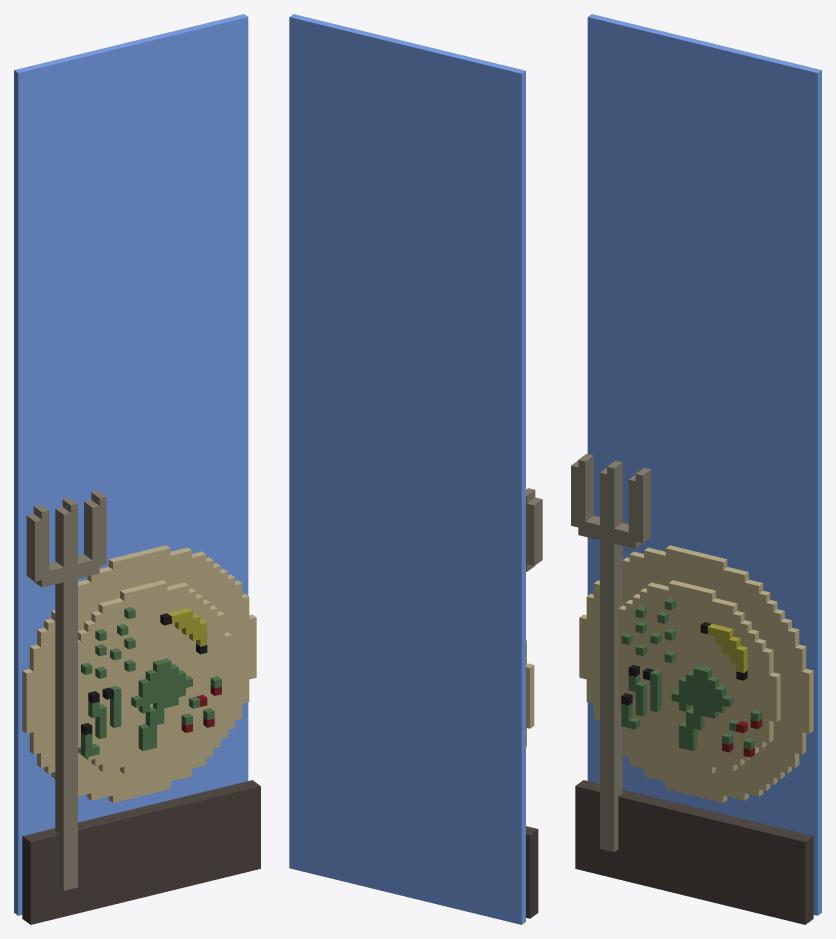
File: scene_veggie_on_plate.glb
3 views of the same model, side by side, from view 1: azimuth 30°, elevation 25°; view 2: azimuth 150°, elevation 25°; view 3: azimuth 330°, elevation 25° (orthographic).
Visible parts, largest first — view 1: scene_veggie_plate_55, scene_veggie_plate_54, scene_veggie_plate_53; view 2: scene_veggie_plate_55, scene_veggie_plate_54, scene_veggie_plate_53; view 3: scene_veggie_plate_55, scene_veggie_plate_54, scene_veggie_plate_53.
Part boxes in pixels (x1=…): scene_veggie_plate_55: x1=14, y1=14, x2=248, y2=915; scene_veggie_plate_54: x1=22, y1=545, x2=260, y2=924; scene_veggie_plate_53: x1=26, y1=490, x2=106, y2=890; scene_veggie_plate_55: x1=289, y1=14, x2=525, y2=924; scene_veggie_plate_54: x1=526, y1=640, x2=538, y2=918; scene_veggie_plate_53: x1=526, y1=488, x2=542, y2=571; scene_veggie_plate_55: x1=587, y1=14, x2=821, y2=915; scene_veggie_plate_54: x1=575, y1=545, x2=813, y2=924; scene_veggie_plate_53: x1=571, y1=453, x2=651, y2=851.
Bounding box in the file's own units: 3.2 × 11.2 × 0.5.
1 material, 1 textured.
